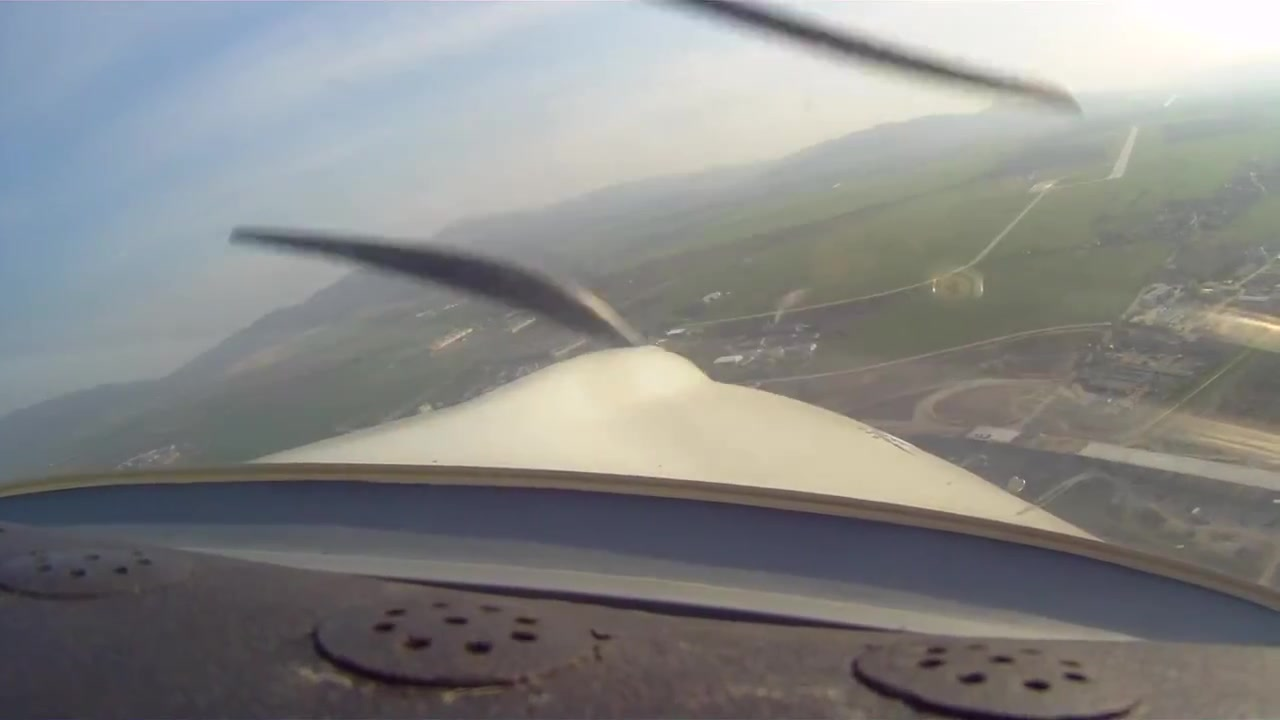runway: (1104, 126, 1139, 180)
